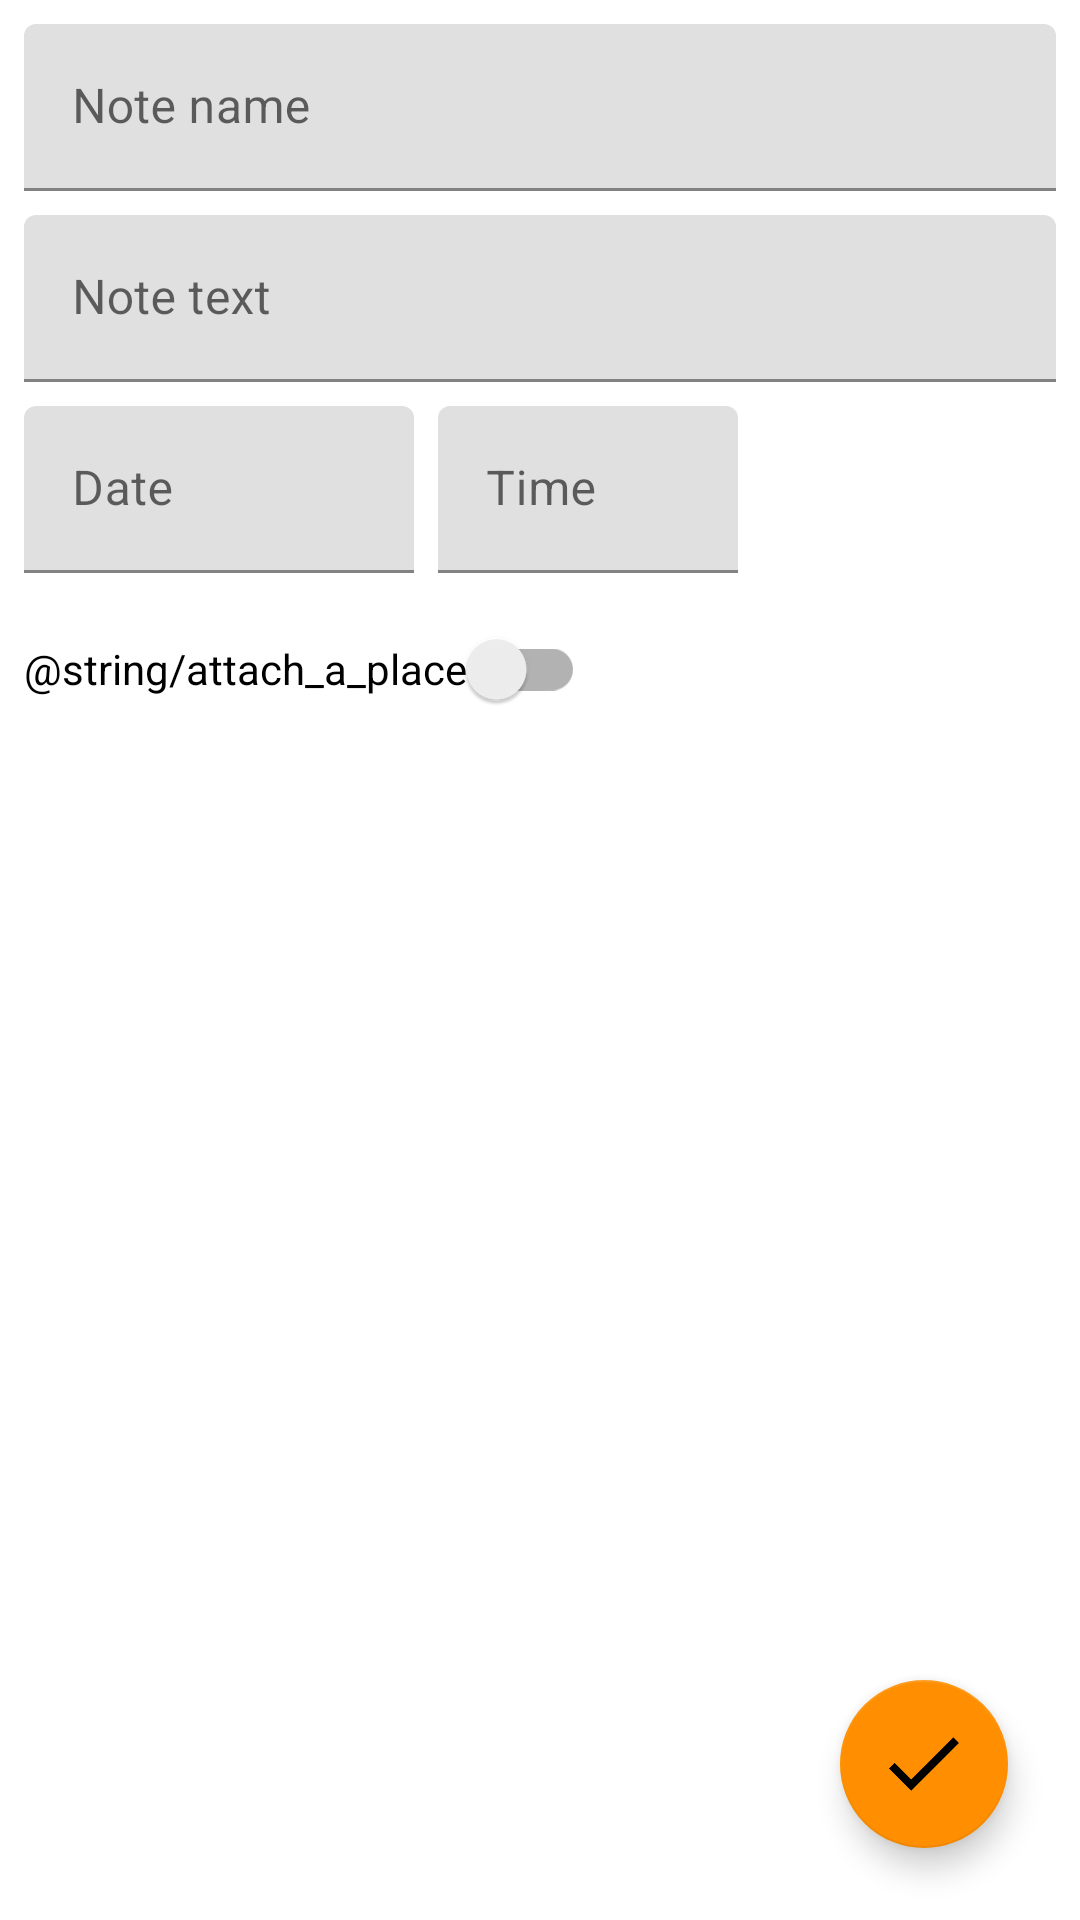

Screen size 1080px×1920px. Icon name, then its center in pixels as (x,y):
check: (924,1764)
